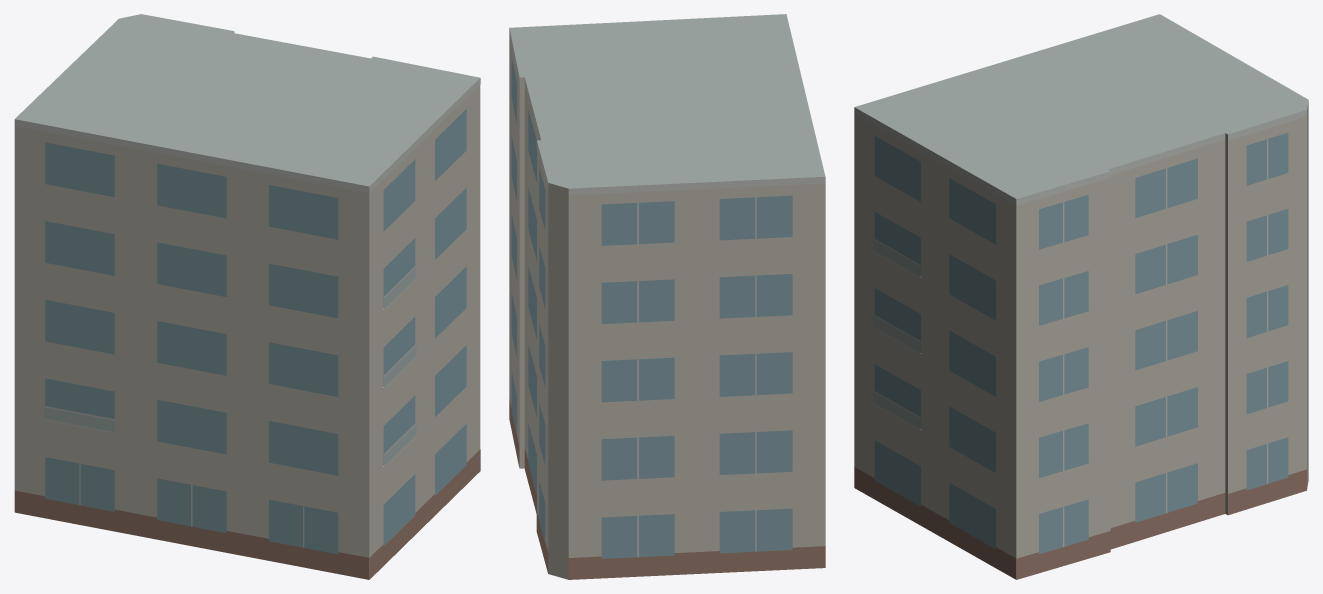
The model's file is survey-upis-32732746.glb.
The picture shows the model from 3 angles, left to right: view 1: azimuth 30°, elevation 25°; view 2: azimuth 150°, elevation 25°; view 3: azimuth 270°, elevation 25°; orthographic projection. The views are drawn at different scales.
Parts seen in each view (by area): view 1: survey-upis-32732746.tmp; view 2: survey-upis-32732746.tmp; view 3: survey-upis-32732746.tmp.
Boxes of the visible parts, x1,y1,x2,y2 form: survey-upis-32732746.tmp: (14,14,480,579); survey-upis-32732746.tmp: (509,14,825,579); survey-upis-32732746.tmp: (854,14,1308,579).
Bounding box in the file's own units: 14.81 × 14.2 × 15.37.
